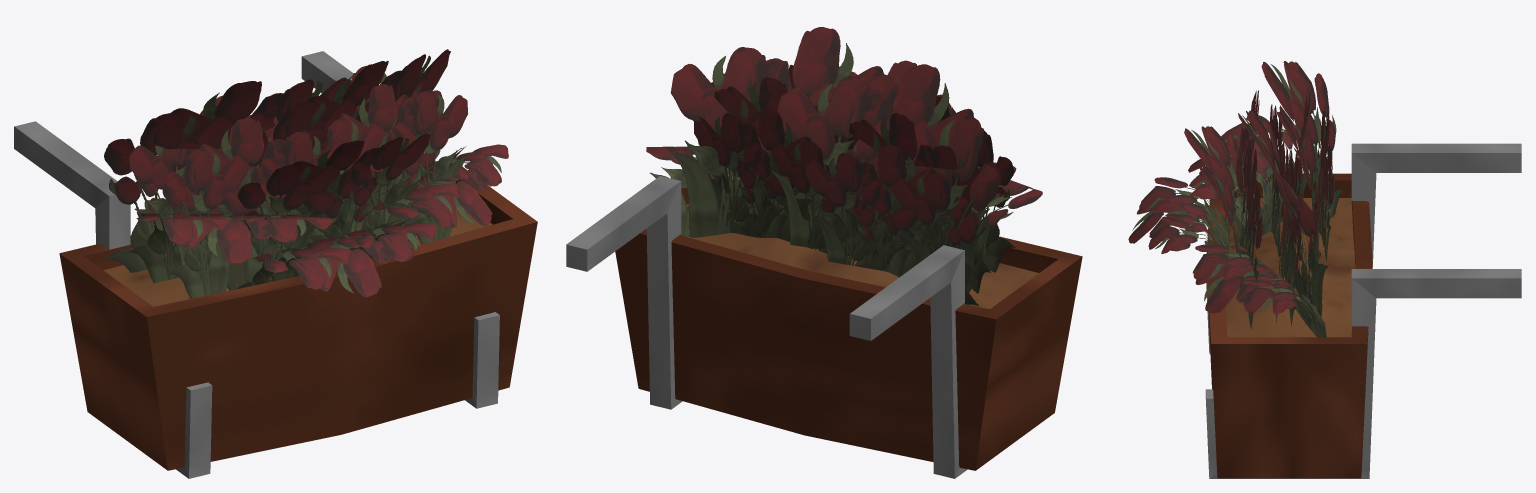
The model's file is Window_flowers.fbx.
3 views of the same model, side by side, from view 1: azimuth 30°, elevation 25°; view 2: azimuth 150°, elevation 25°; view 3: azimuth 270°, elevation 25° (orthographic). The views are drawn at different scales.
Visible parts, largest first — view 1: Window_flowers_LOD0; view 2: Window_flowers_LOD0; view 3: Window_flowers_LOD0.
Boxes of the visible parts, x1,y1,x2,y2 form: Window_flowers_LOD0: (14,49,537,478); Window_flowers_LOD0: (566,27,1082,478); Window_flowers_LOD0: (1128,61,1521,478).
Size of what is drawn, in the model's own units: 177 by 143 by 165.
